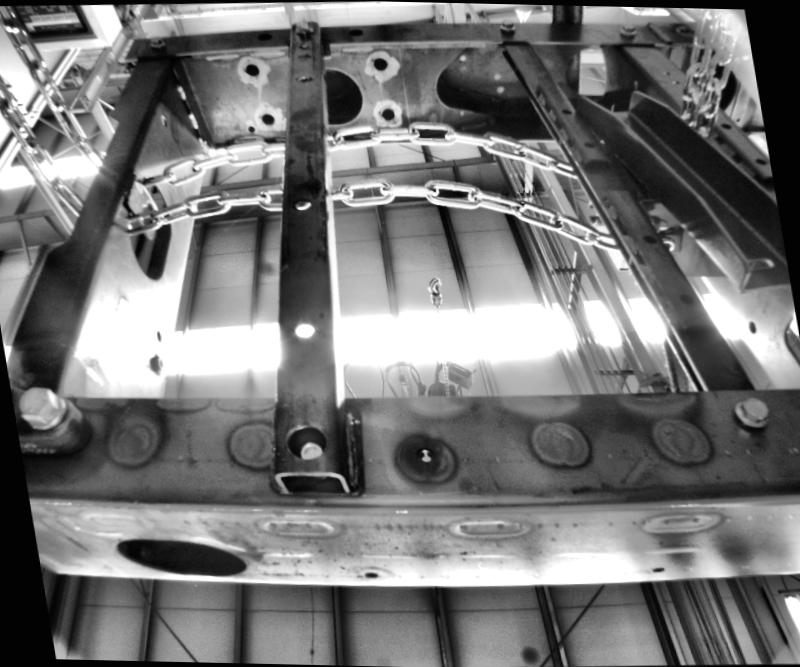bolt: (15, 376, 72, 439), (728, 395, 776, 428), (144, 348, 168, 374), (494, 15, 520, 30), (617, 19, 638, 37), (144, 31, 166, 47)
bracket: (115, 156, 166, 239)
hole: (92, 523, 258, 578), (285, 420, 327, 461), (290, 318, 320, 342), (410, 441, 436, 464), (290, 190, 313, 206), (241, 60, 261, 76), (374, 99, 394, 115), (258, 109, 276, 125), (293, 70, 313, 82), (744, 318, 760, 332), (252, 28, 273, 38), (370, 50, 386, 62), (649, 560, 663, 572), (362, 567, 378, 577), (346, 26, 363, 34), (152, 328, 162, 340), (295, 34, 306, 42), (247, 122, 255, 129)
welding: (172, 79, 188, 97), (186, 110, 198, 128), (196, 134, 208, 152)
